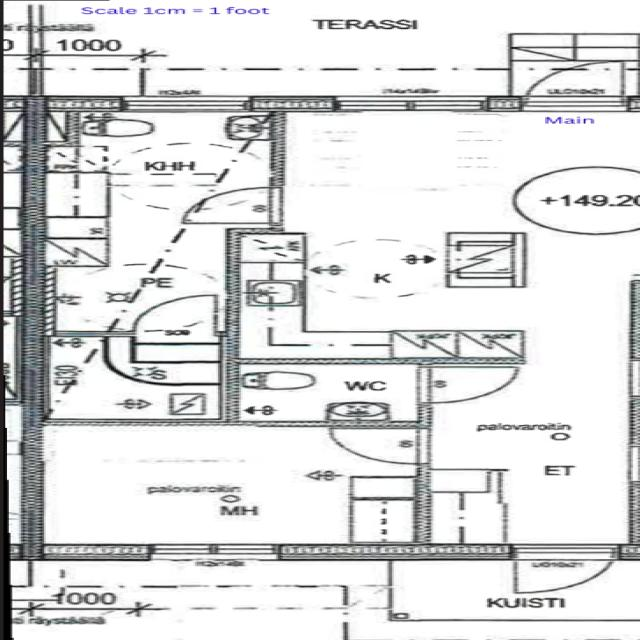main: (495, 59, 640, 121)
wall: (268, 542, 524, 565), (24, 541, 156, 563), (244, 92, 345, 112)
